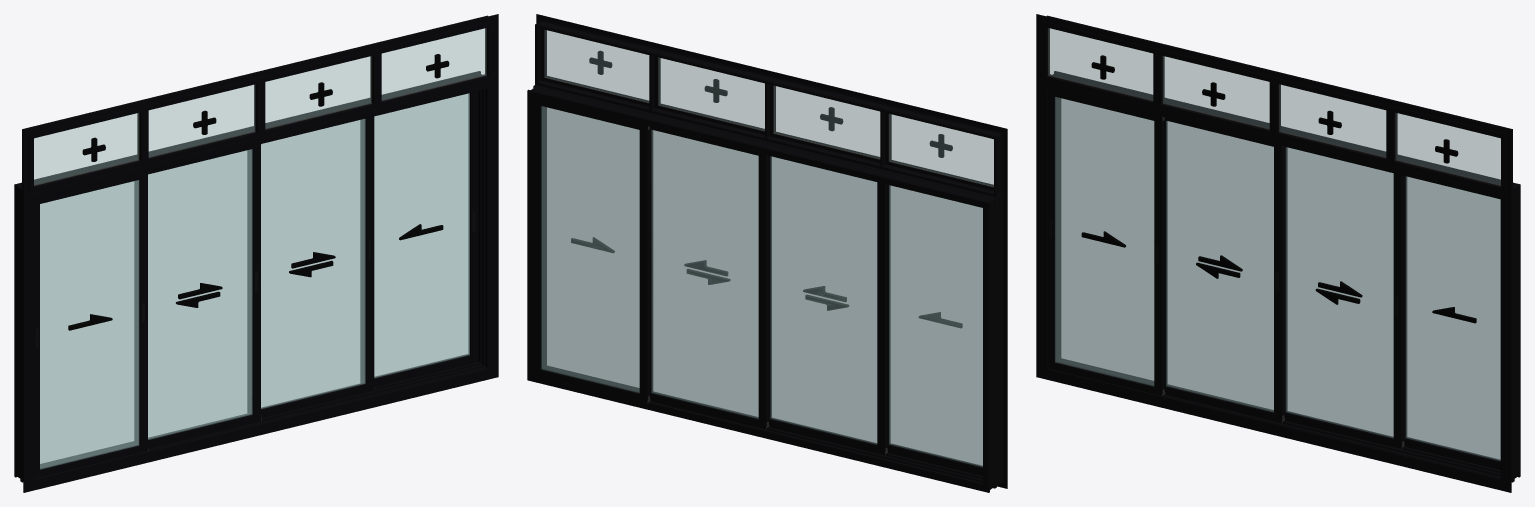
The model's file is SLIDING-ROYAL-4-TRACK-4-PANELS-W-FIXED-TOP-W-3-TSEC.glb.
3 renders of one model, left to right at view 1: azimuth 30°, elevation 25°; view 2: azimuth 150°, elevation 25°; view 3: azimuth 330°, elevation 25°, orthographic.
Parts seen in each view (by area): view 1: GEO-PNL-1-2-SSH-GLZ-IN, GEO-PNL-1-3-SSH-GLZ-IN, GEO-PNL-1-2-SSH-GLZ-OUT, GEO-PNL-1-3-SSH-GLZ-OUT, GEO-PNL-1-1-SSH-GLZ-IN, GEO-PNL-1-1-SSH-GLZ-OUT, GEO-PNL-1-4-SSH-GLZ-IN, GEO-PNL-1-4-SSH-GLZ-OUT, GEO-GRD-0-1-FRM-GLZ-IN, GEO-GRD-0-0-FRM-RAIL-B, GEO-GRD-0-0-FRM-RAIL-T, GEO-GRD-0-0-FRM-SIDE-L (+22 smaller); view 2: GEO-PNL-1-3-SSH-GLZ-OUT, GEO-PNL-1-2-SSH-GLZ-OUT, GEO-PNL-1-3-SSH-GLZ-IN, GEO-PNL-1-2-SSH-GLZ-IN, GEO-PNL-1-4-SSH-GLZ-OUT, GEO-PNL-1-4-SSH-GLZ-IN, GEO-PNL-1-1-SSH-GLZ-OUT, GEO-PNL-1-1-SSH-GLZ-IN, GEO-GRD-0-1-FRM-GLZ-IN, GEO-GRD-0-0-FRM-RAIL-T, GEO-GRD-0-1-FRM-RAIL-B, GEO-GRD-0-0-FRM-SIDE-L (+22 smaller); view 3: GEO-PNL-1-2-SSH-GLZ-IN, GEO-PNL-1-3-SSH-GLZ-IN, GEO-PNL-1-2-SSH-GLZ-OUT, GEO-PNL-1-3-SSH-GLZ-OUT, GEO-PNL-1-1-SSH-GLZ-IN, GEO-PNL-1-1-SSH-GLZ-OUT, GEO-PNL-1-4-SSH-GLZ-IN, GEO-PNL-1-4-SSH-GLZ-OUT, GEO-GRD-0-1-FRM-GLZ-IN, GEO-GRD-0-0-FRM-RAIL-B, GEO-GRD-0-0-FRM-RAIL-T, GEO-GRD-0-0-FRM-SIDE-R (+24 smaller).
Part boxes in pixels (x1,y1,x2,y2): GEO-PNL-1-2-SSH-GLZ-IN: (148, 149, 252, 439); GEO-PNL-1-3-SSH-GLZ-IN: (261, 119, 365, 408); GEO-PNL-1-2-SSH-GLZ-OUT: (148, 150, 251, 438); GEO-PNL-1-3-SSH-GLZ-OUT: (261, 119, 364, 407); GEO-PNL-1-1-SSH-GLZ-IN: (40, 180, 138, 469); GEO-PNL-1-1-SSH-GLZ-OUT: (40, 180, 138, 468); GEO-PNL-1-4-SSH-GLZ-IN: (374, 93, 469, 377); GEO-PNL-1-4-SSH-GLZ-OUT: (374, 94, 468, 376); GEO-GRD-0-1-FRM-GLZ-IN: (34, 28, 485, 184); GEO-GRD-0-0-FRM-RAIL-B: (40, 363, 482, 483); GEO-GRD-0-0-FRM-RAIL-T: (34, 74, 482, 197); GEO-GRD-0-0-FRM-SIDE-L: (14, 197, 34, 474); GEO-PNL-1-3-SSH-GLZ-OUT: (651, 130, 758, 418); GEO-PNL-1-2-SSH-GLZ-OUT: (770, 156, 876, 444); GEO-PNL-1-3-SSH-GLZ-IN: (652, 130, 758, 417); GEO-PNL-1-2-SSH-GLZ-IN: (771, 157, 876, 443); GEO-PNL-1-4-SSH-GLZ-OUT: (541, 106, 639, 392); GEO-PNL-1-4-SSH-GLZ-IN: (542, 106, 639, 391); GEO-PNL-1-1-SSH-GLZ-OUT: (889, 185, 982, 466); GEO-PNL-1-1-SSH-GLZ-IN: (890, 186, 982, 465); GEO-GRD-0-1-FRM-GLZ-IN: (545, 30, 993, 186); GEO-GRD-0-0-FRM-RAIL-T: (539, 87, 984, 206); GEO-GRD-0-1-FRM-RAIL-B: (546, 77, 990, 194); GEO-GRD-0-0-FRM-SIDE-L: (983, 205, 1002, 480); GEO-PNL-1-2-SSH-GLZ-IN: (1166, 121, 1273, 412); GEO-PNL-1-3-SSH-GLZ-IN: (1286, 147, 1393, 437); GEO-PNL-1-2-SSH-GLZ-OUT: (1167, 121, 1273, 410); GEO-PNL-1-3-SSH-GLZ-OUT: (1287, 147, 1393, 436); GEO-PNL-1-1-SSH-GLZ-IN: (1055, 97, 1153, 386); GEO-PNL-1-1-SSH-GLZ-OUT: (1056, 97, 1153, 384); GEO-PNL-1-4-SSH-GLZ-IN: (1406, 176, 1500, 460); GEO-PNL-1-4-SSH-GLZ-OUT: (1406, 177, 1500, 459); GEO-GRD-0-1-FRM-GLZ-IN: (1049, 28, 1500, 184); GEO-GRD-0-0-FRM-RAIL-B: (1052, 360, 1500, 483); GEO-GRD-0-0-FRM-RAIL-T: (1052, 74, 1500, 197); GEO-GRD-0-0-FRM-SIDE-R: (1500, 197, 1520, 474).
Bounding box in the file's own units: 4.08 × 2.98 × 0.2477.
